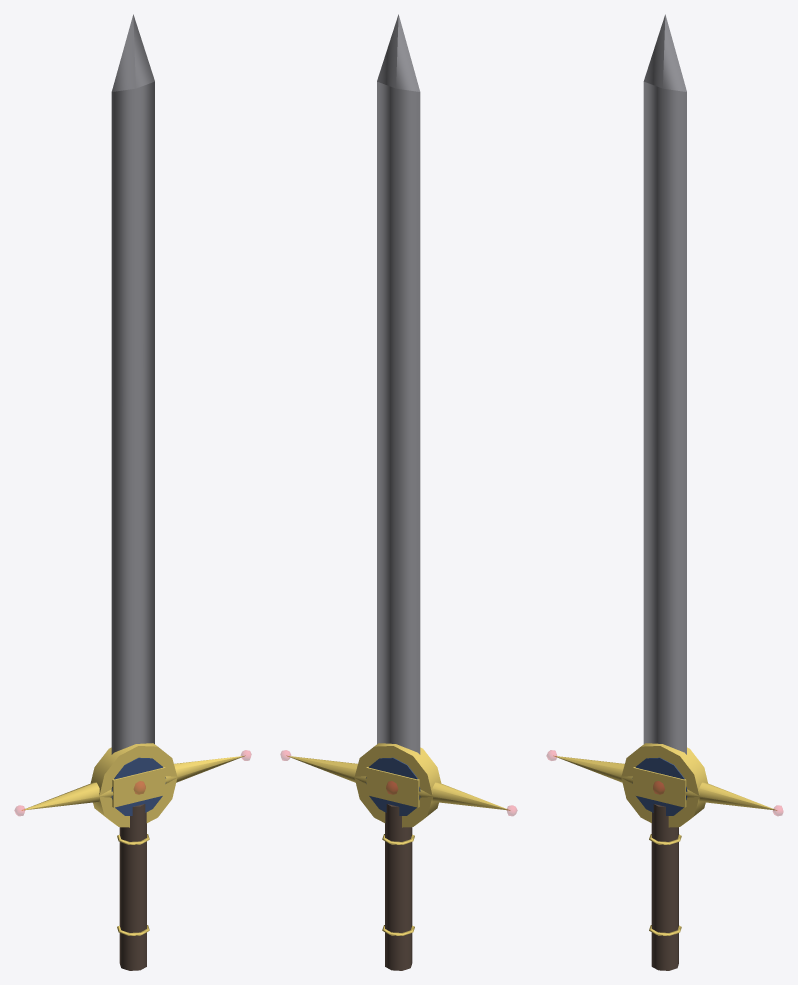
The model's file is sword.glb.
3 views of the same model, side by side, from view 1: azimuth 30°, elevation 25°; view 2: azimuth 150°, elevation 25°; view 3: azimuth 330°, elevation 25° (orthographic).
Parts seen in each view (by area): view 1: b_main, grip, p_disc, b_tip, cg_center, cg_arm_l, p_enamel, cg_arm_r; view 2: b_main, grip, p_disc, b_tip, cg_center, cg_arm_l, p_enamel, cg_arm_r; view 3: b_main, grip, p_disc, b_tip, cg_center, cg_arm_r, p_enamel, cg_arm_l.
Boxes of the visible parts, x1,y1,x2,y2 form: b_main: [111, 81, 154, 754]; grip: [119, 804, 146, 970]; p_disc: [90, 743, 177, 827]; b_tip: [111, 14, 154, 91]; cg_center: [112, 767, 165, 807]; cg_arm_l: [21, 782, 113, 810]; p_enamel: [111, 757, 166, 815]; cg_arm_r: [165, 755, 245, 783]; b_main: [377, 81, 420, 754]; grip: [385, 804, 412, 970]; p_disc: [354, 743, 441, 827]; b_tip: [377, 14, 420, 91]; cg_center: [366, 767, 419, 807]; cg_arm_l: [418, 782, 510, 810]; p_enamel: [365, 757, 420, 815]; cg_arm_r: [286, 755, 366, 783]; b_main: [643, 82, 686, 754]; grip: [651, 804, 678, 970]; p_disc: [621, 743, 707, 827]; b_tip: [643, 14, 686, 91]; cg_center: [633, 767, 686, 807]; cg_arm_r: [685, 782, 777, 810]; p_enamel: [632, 757, 687, 815]; cg_arm_l: [553, 755, 632, 783].
Bounding box in the file's own units: 0.2709 × 1.04 × 0.0359.
